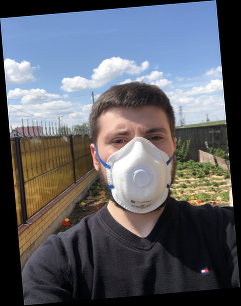with_mask: (102, 121, 176, 215)
